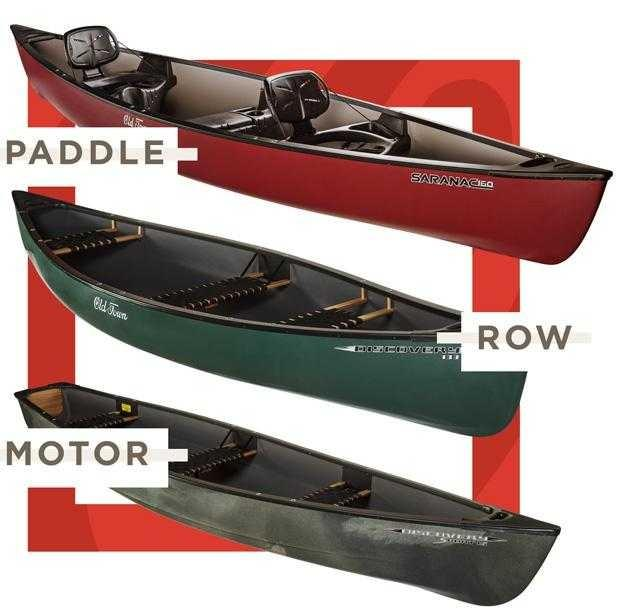kayak: (3, 20, 610, 444)
